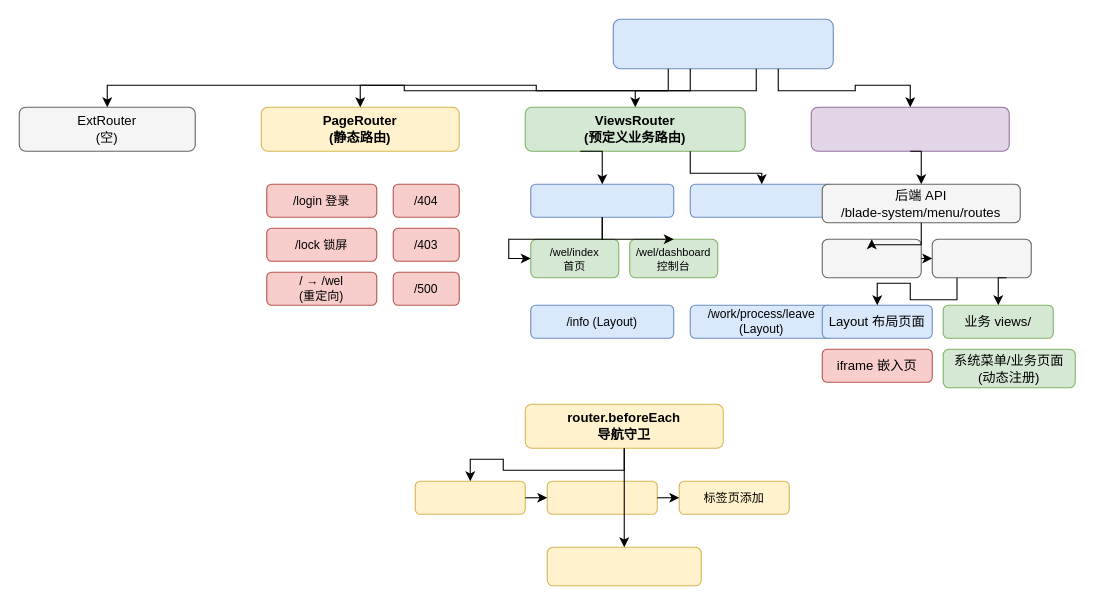
This 1095x605 diagram has some shape labels left out. The centre of each missing label's shape, as x and y in pixels:
/test (Layout): pixel 761 200
/wel (Layout): pixel 602 200
formatPath 菜单处理: pixel 871 258
formatRoutes 动态注册: pixel 981 258
Token 检查: pixel 469 497
Vue Router 实例: pixel 722 43
动态路由 (后端菜单): pixel 909 128
锁屏检查: pixel 601 497
页面标题设置 router.afterEach: pixel 623 566
